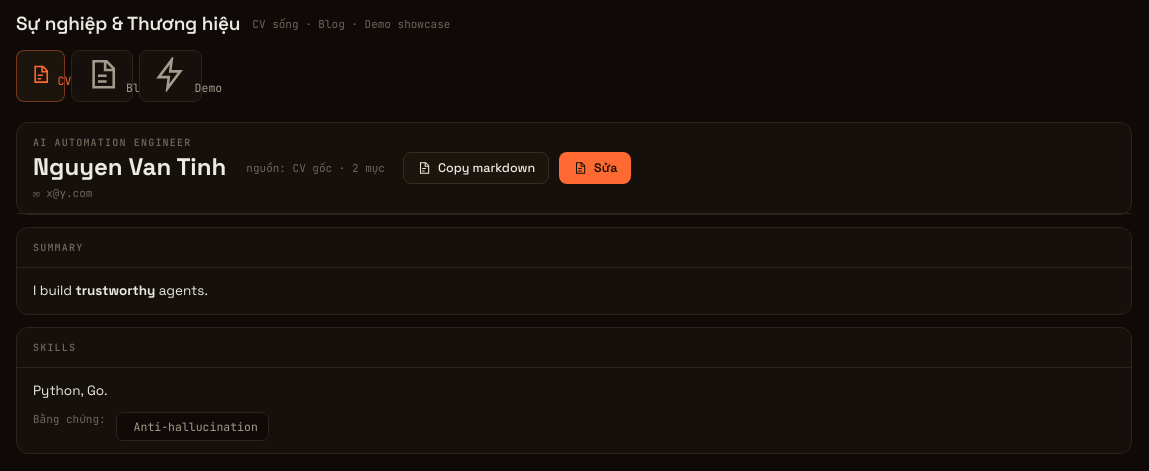
Test case: CAR-1 Career — Demo tab › switches to demo tab and renders demo cards + status chip
What coordinates should you click on to do the following:
click the button with test id "tab-demo"
I would click on:
 (170, 76)
Its box is [139,50,202,102].
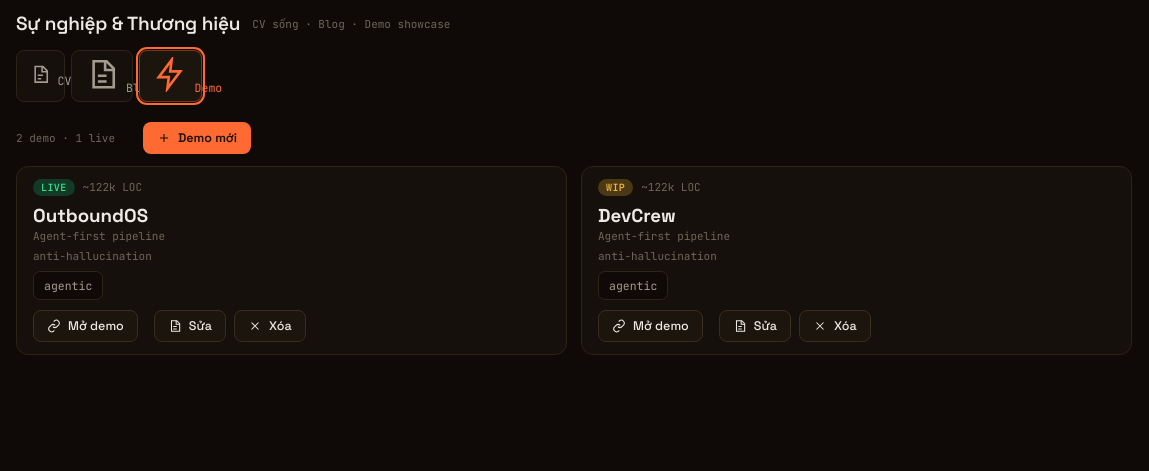
Expected: the element with test id "demo-tab" is shown, [16,122,1132,354]
Expected: the heading "OutboundOS" is shown, [33,204,148,226]
Expected: the heading "DevCrew" is shown, [598,204,676,226]
